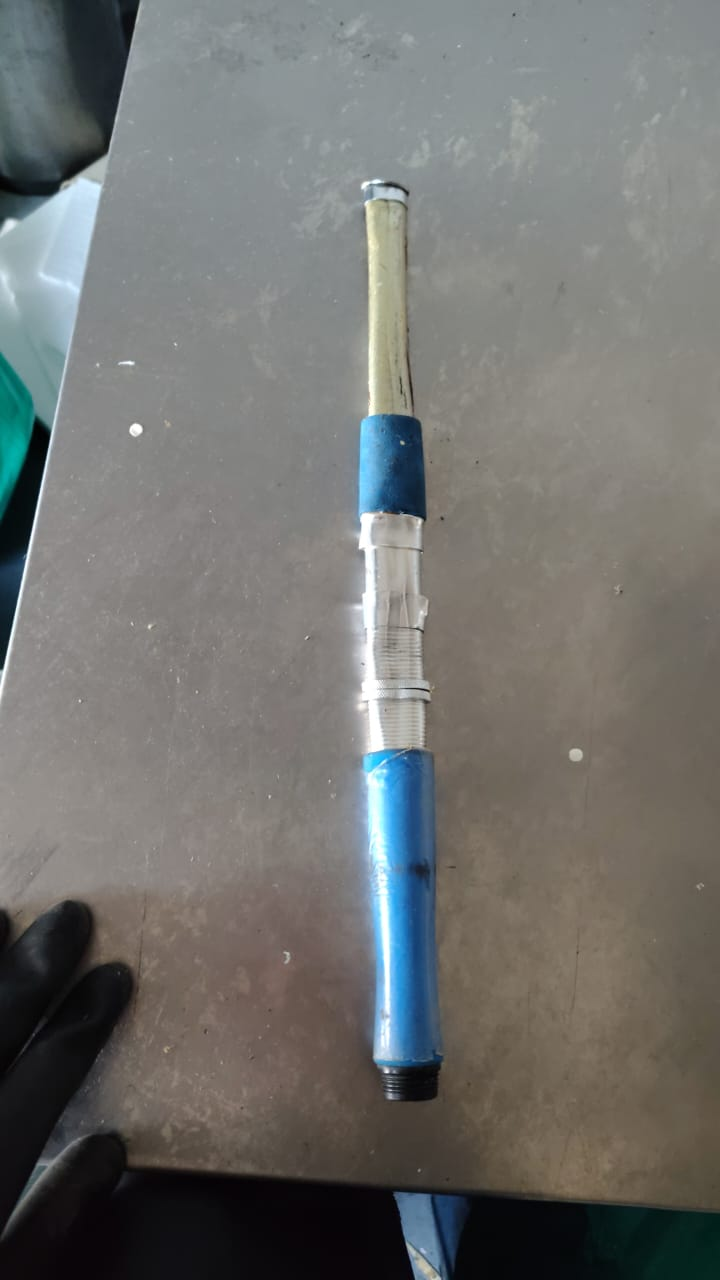Ordinario: (357, 180, 437, 1098)
